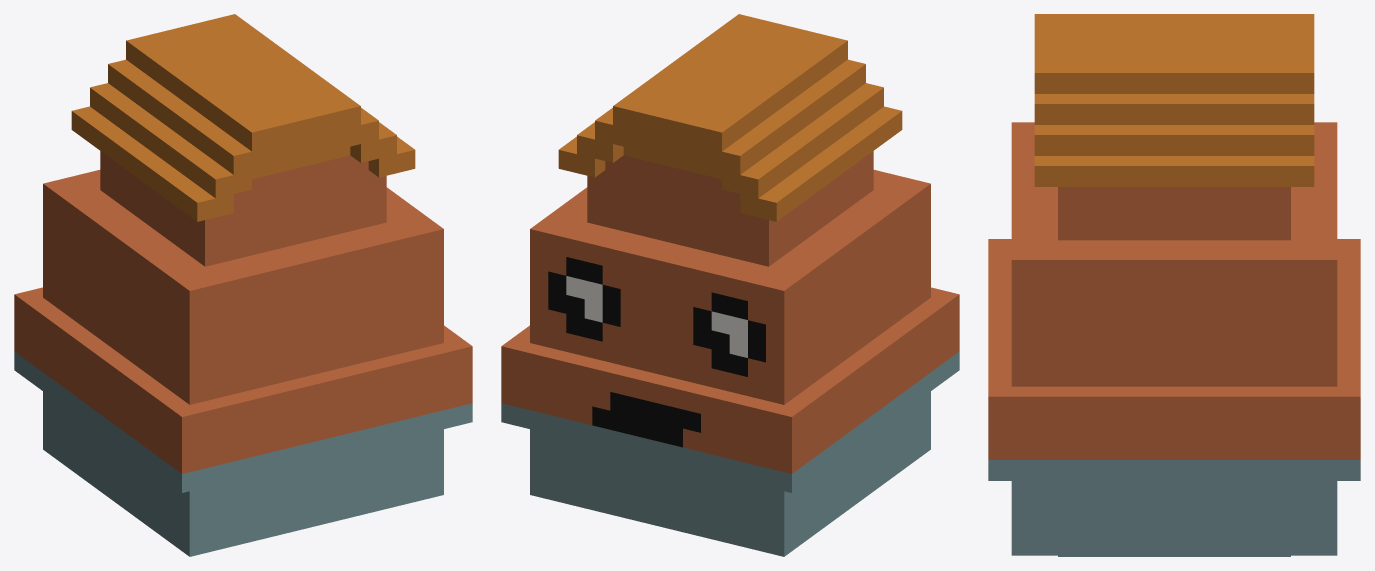
The model's file is Npc5.glb.
The picture shows the model from 3 angles, left to right: view 1: azimuth 30°, elevation 25°; view 2: azimuth 150°, elevation 25°; view 3: azimuth 270°, elevation 25°; orthographic projection. The views are drawn at different scales.
Parts seen in each view (by area): view 1: Untitled; view 2: Untitled; view 3: Untitled.
Boxes of the visible parts, box(x1,y1,x2,y2) form: Untitled: box(14, 14, 472, 556); Untitled: box(501, 14, 959, 556); Untitled: box(988, 14, 1360, 556).
Size of the model in its own units: 1.6 by 2.2 by 1.6.
1 material, 1 textured.
